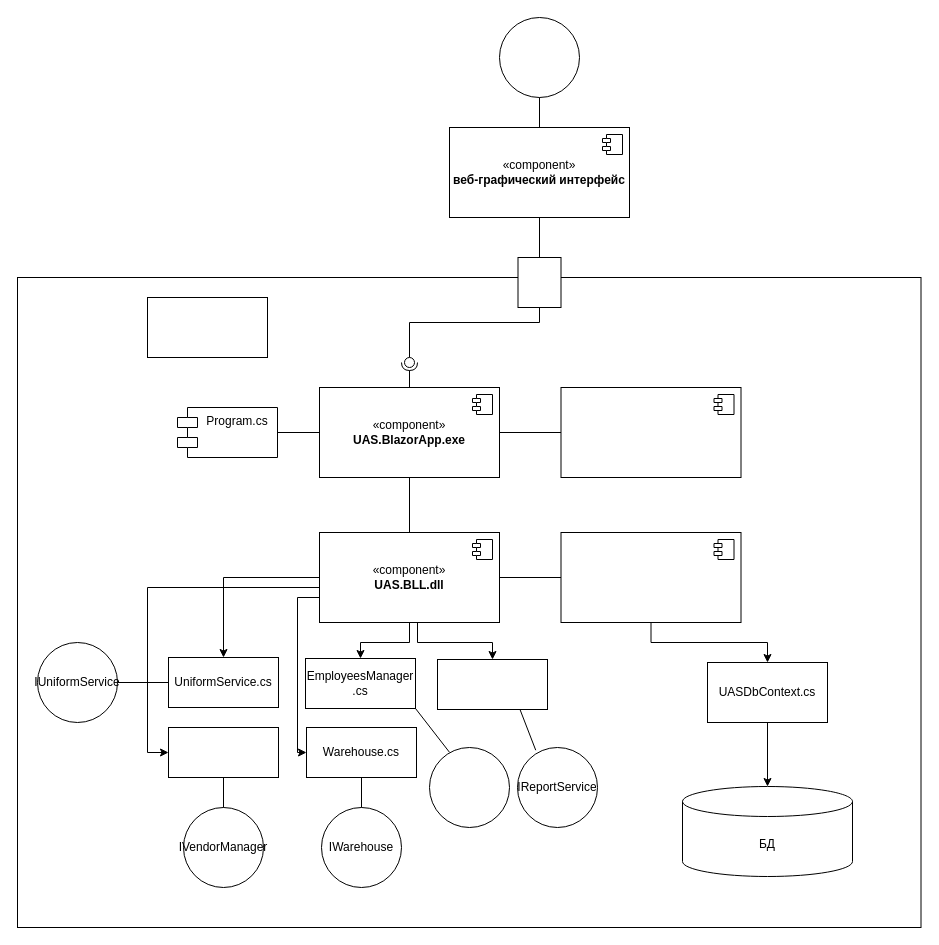
Image size: 939x945. Some labels were removed from this diagram. The centre of each missing label's shape, as x and y in pixels:
"<<Server>>" belongs at point (207, 327).
"IEmployees Manager" belongs at point (469, 787).
"ReportService.cs" belongs at point (492, 684).
"VendorManager.cs" belongs at point (223, 752).
"«component» UAS.BlazorApp.dll" belongs at point (650, 432).
"«component» UAS.DAta.dll" belongs at point (650, 577).
"Заведующий учетом спецодежды" belongs at point (539, 57).
